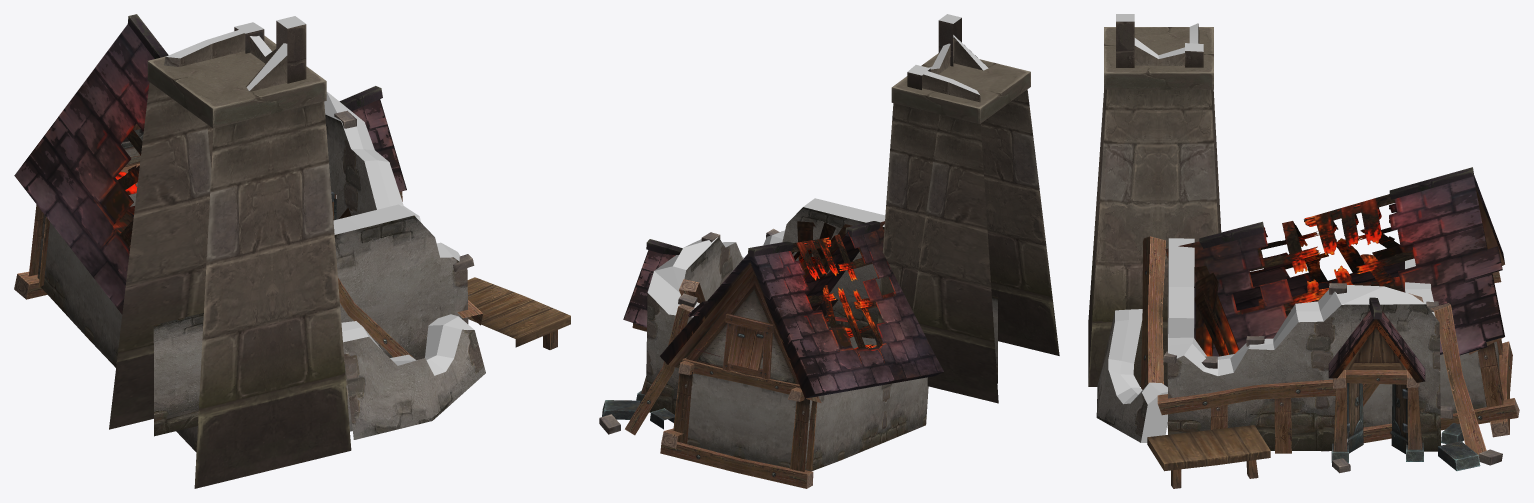
Rendered from building_city_zhuchengminfang01_po.FBX.
3 renders of one model, left to right at view 1: azimuth 30°, elevation 25°; view 2: azimuth 150°, elevation 25°; view 3: azimuth 270°, elevation 25°, orthographic. The views are drawn at different scales.
Parts seen in each view (by area): view 1: building_city_zhuchengminfang01_po; view 2: building_city_zhuchengminfang01_po; view 3: building_city_zhuchengminfang01_po.
Boxes of the visible parts, <box> form: building_city_zhuchengminfang01_po: <box>14,14,570,488</box>; building_city_zhuchengminfang01_po: <box>599,14,1059,488</box>; building_city_zhuchengminfang01_po: <box>1088,14,1519,488</box>.
Size of the model in its own units: 12.62 by 13.23 by 13.35.
